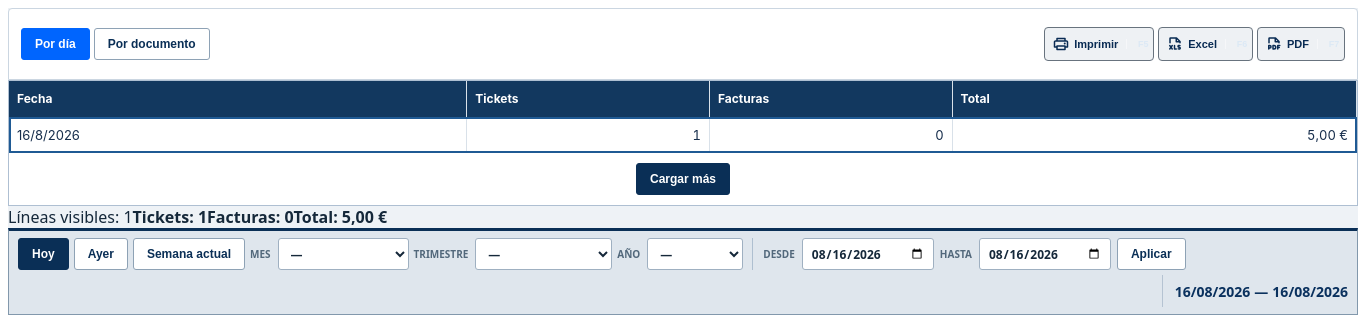
Test: SalesReportScreen › fails closed when load more returns an invalid daily documents current date
The image size is (1366, 332).
Click the button "Cargar más".
click(683, 179)  # box [636, 163, 730, 195]
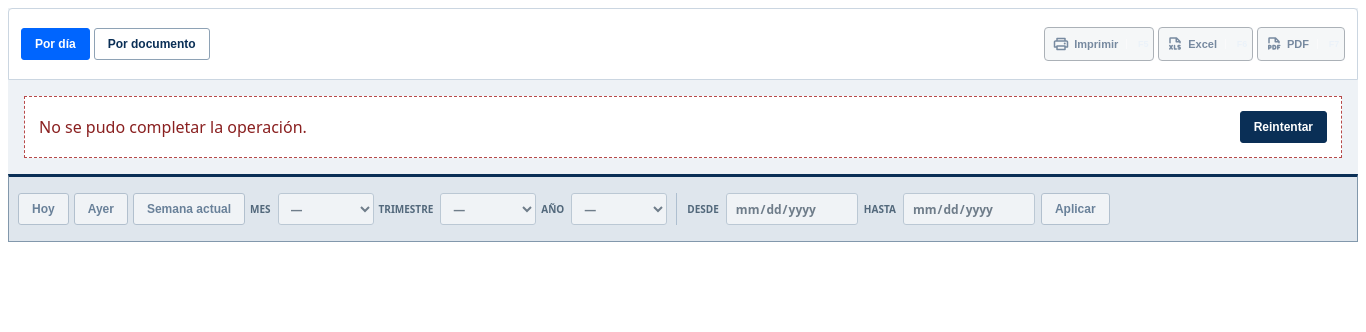
Expected: the message shows "No se pudo completar la operación.", [39, 116, 307, 138]
Expected: the button "Hoy" is disabled, [18, 193, 69, 225]
